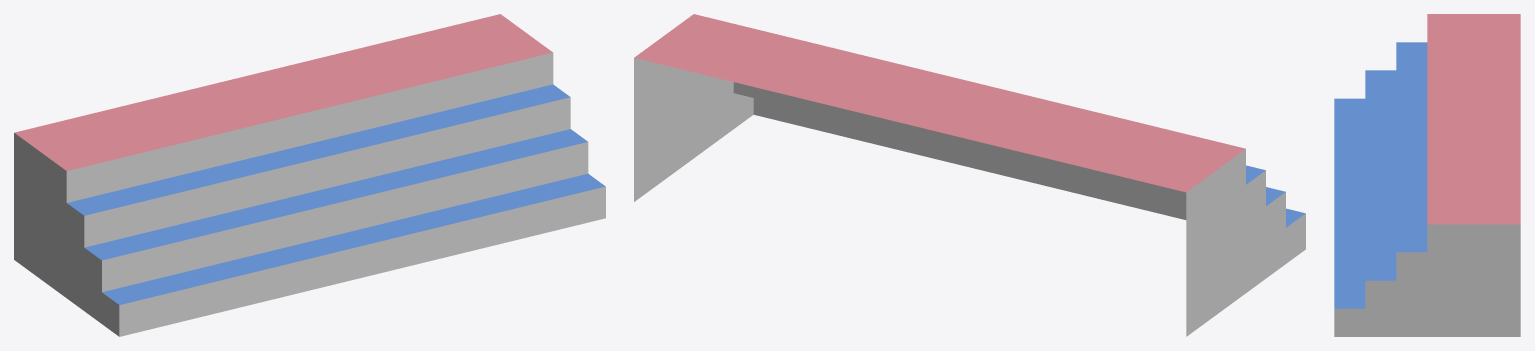
The model's file is stairs_1_4x1.glb.
The picture shows the model from 3 angles, left to right: view 1: azimuth 30°, elevation 25°; view 2: azimuth 150°, elevation 25°; view 3: azimuth 270°, elevation 25°; orthographic projection. The views are drawn at different scales.
Parts seen in each view (by area): view 1: Cube; view 2: Cube; view 3: Cube.
Part boxes in pixels (x1=…): Cube: x1=14, y1=14, x2=605, y2=336; Cube: x1=634, y1=14, x2=1305, y2=336; Cube: x1=1334, y1=14, x2=1520, y2=336.
Bounding box in the file's own units: 4 × 1 × 1.5.
